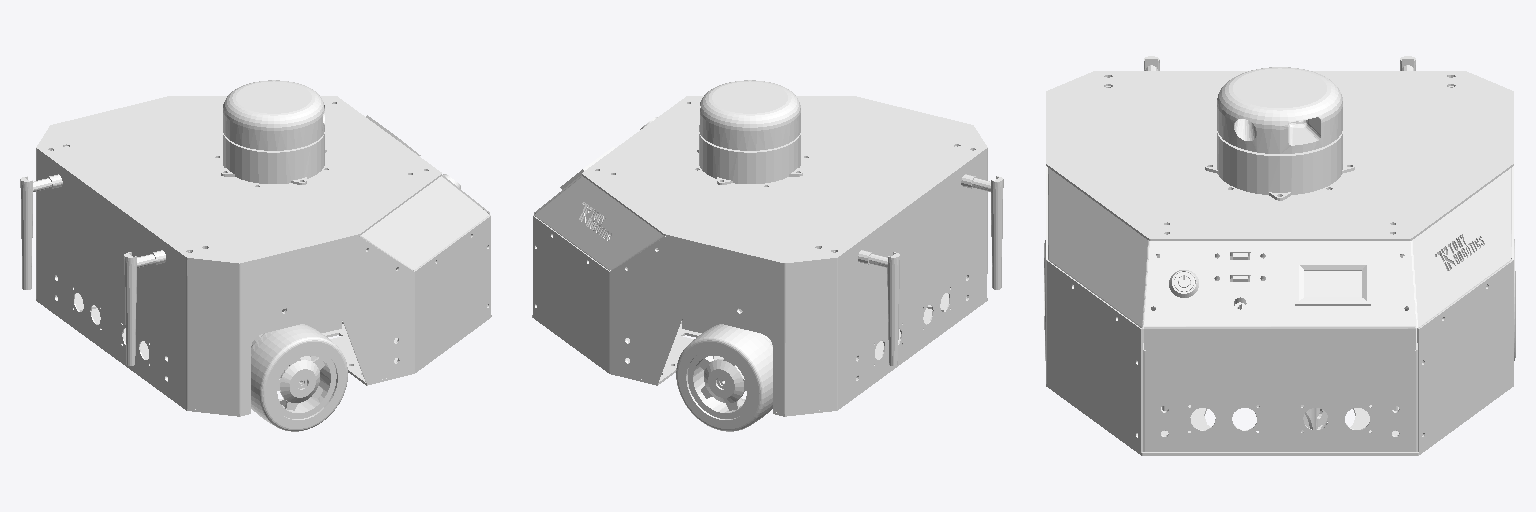
robot.urdf — tr05:
<?xml version="1.0"?>

<robot
  name="tr05">
  <link
    name="base_link">
    <inertial>
      <origin
        xyz="-0.028595 -0.045347 0.49115"
        rpy="-1.57 0 -1.57" />
      <mass
        value="2.5724" />
      <inertia
        ixx="0.019685"
        ixy="-6.7256E-06"
        ixz="3.4386E-06"
        iyy="0.037761"
        iyz="-0.0018177"
        izz="0.043941" />
    </inertial>
    <visual>
      <origin
        xyz="0.01 0.01 0"
        rpy="-1.57 0 -1.57" />
      <geometry>
        <mesh
          filename="package://tr05_controller/model/meshes/base_link.STL" />
      </geometry>
      <material
        name="">
        <color
          rgba="1 1 1 1" />
      </material>
    </visual>
    <collision>
      <origin
        xyz="0.01 0.01 0"
        rpy="-1.57 0 -1.57" />
      <geometry>
        <mesh
          filename="package://tr05_controller/model/meshes/base_link.STL" />
      </geometry>
    </collision>
  </link>
</robot>

--- Render facts (derived) ---
3 views of the same robot in one strip: view 1: azimuth 30°, elevation 25°; view 2: azimuth 150°, elevation 25°; view 3: azimuth 270°, elevation 25° (orthographic).
Model tr05 with 1 links and 0 joints (none), rooted at base_link, posed all joints at 0.
Visible links, largest first — view 1: base_link; view 2: base_link; view 3: base_link.
Link boxes in pixels (x1,y1,x2,y2): base_link: (20, 80, 491, 431); base_link: (532, 80, 1003, 431); base_link: (1044, 56, 1515, 455).
Bounding box of the posed robot: 0.3232 × 0.294 × 0.2126 m (x, y, z).
1 mesh visuals loaded from 1 distinct referenced files (1 binary STL).